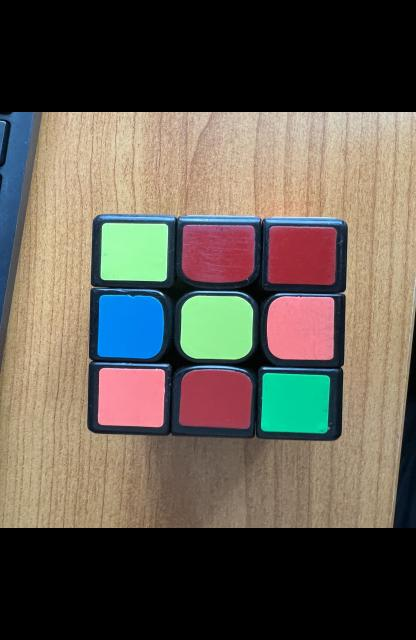Blue: (97, 295, 163, 359)
Green: (259, 373, 329, 434)
Orange: (266, 296, 333, 360), (97, 368, 164, 427)
Red: (178, 370, 252, 429), (180, 225, 254, 283), (267, 226, 336, 285)
Yellow: (179, 295, 253, 360), (99, 222, 167, 282)
